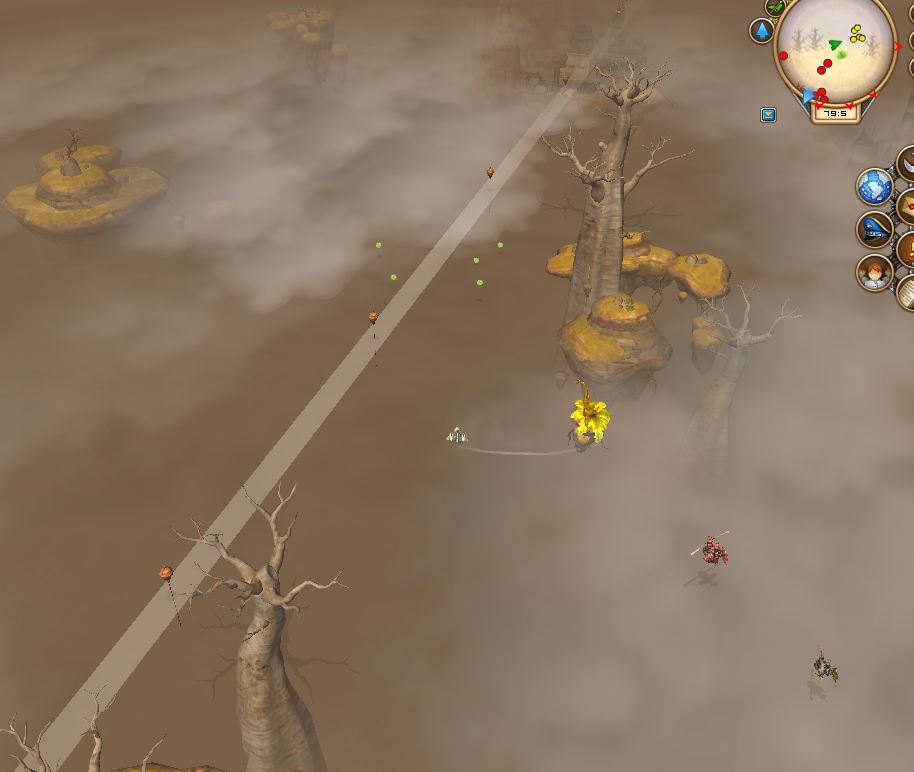dandelion-empty: (566, 378, 608, 452)
fluff: (372, 239, 384, 251), (387, 271, 400, 282), (495, 239, 506, 250), (474, 276, 484, 288), (472, 254, 482, 265)
